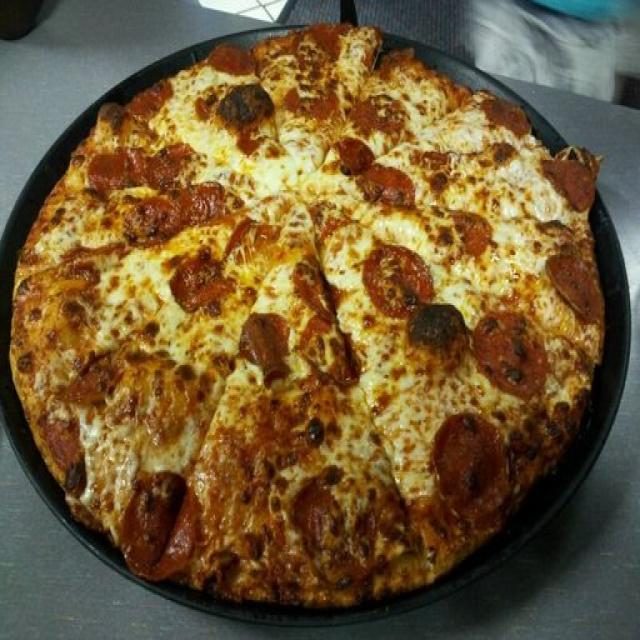Pepperoni: (108, 468, 211, 578), (291, 478, 388, 570), (434, 409, 516, 517), (325, 133, 412, 217), (126, 175, 223, 247), (354, 232, 424, 319), (468, 308, 538, 393), (540, 141, 598, 212), (544, 248, 599, 316), (292, 82, 352, 142), (242, 306, 290, 375), (166, 262, 229, 309), (87, 143, 154, 187), (434, 201, 489, 254), (479, 100, 542, 141), (295, 253, 332, 321), (43, 408, 82, 470), (216, 82, 268, 126), (77, 350, 120, 400), (150, 144, 192, 192), (292, 34, 343, 72), (205, 37, 256, 72)
Pizza: (10, 25, 604, 605)
